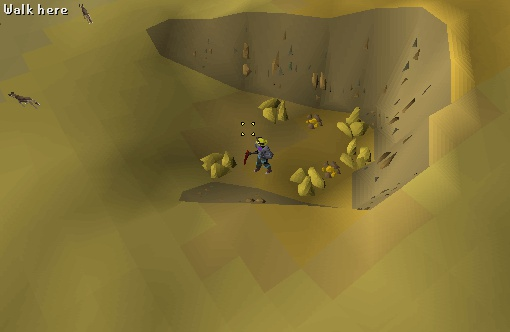gold: (289, 160, 328, 205), (192, 148, 243, 178), (250, 94, 296, 126)
